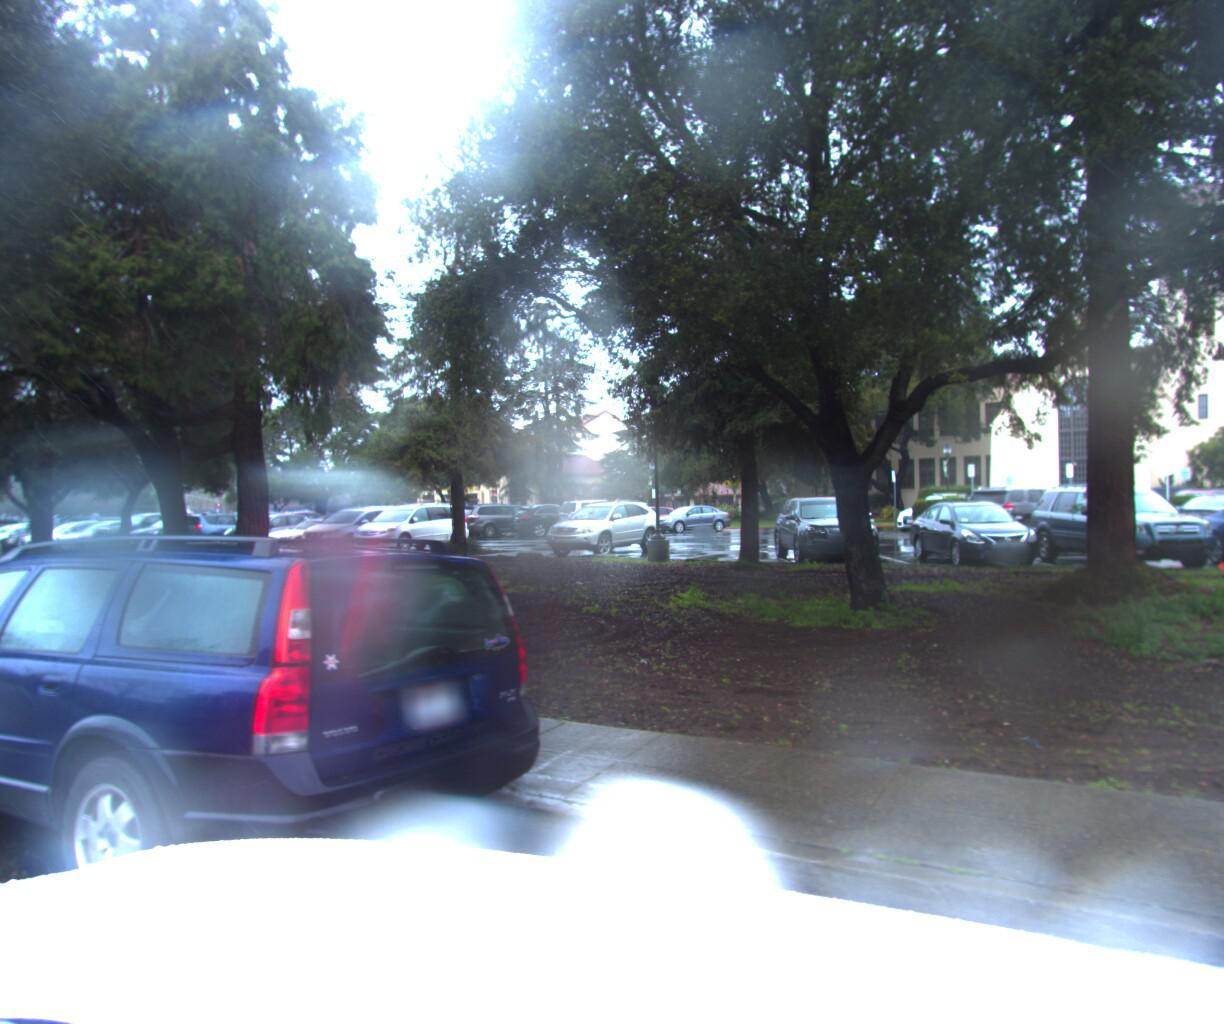car: (0, 524, 565, 1024)
